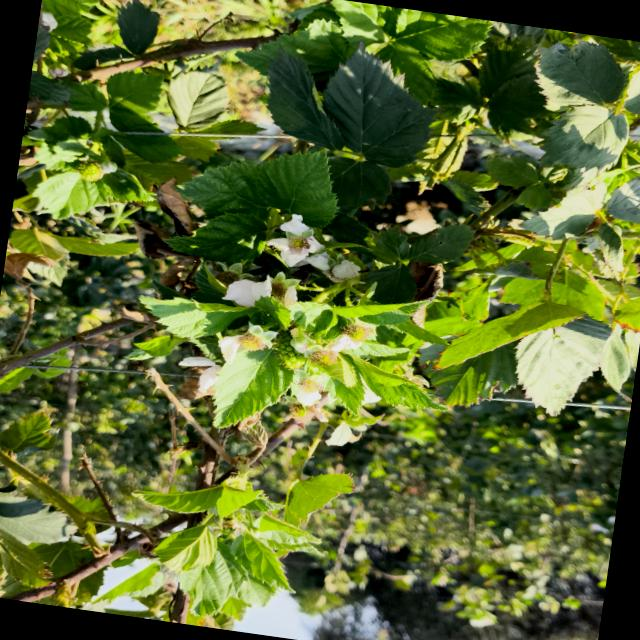flor: (268, 214, 324, 266), (224, 277, 271, 307), (331, 260, 360, 281)
verde: (274, 331, 306, 370)
